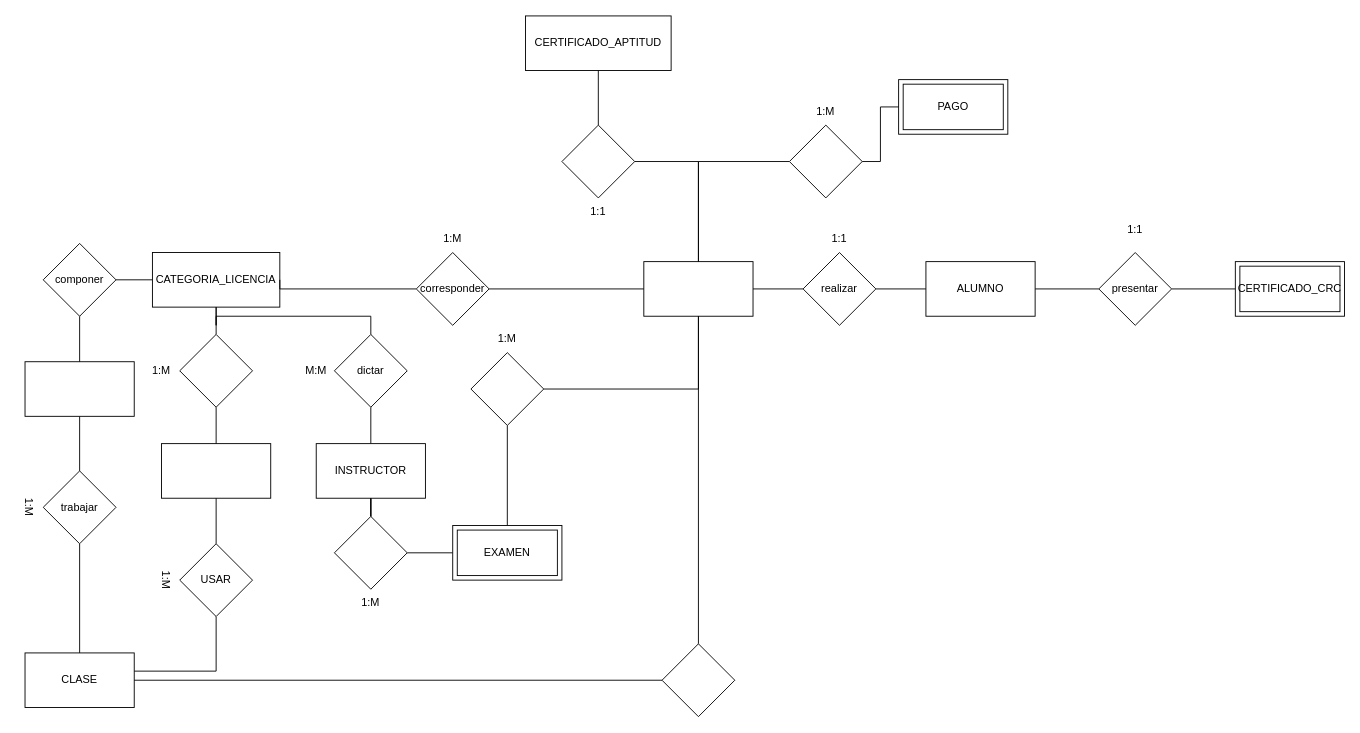
This 1360x733 diagram has some shape labels left out. Each missing label, with the centre of its shape:
calificar: the point at 370,552
enseñar: the point at 216,370
evaluar: the point at 507,388
MATRICULA: the point at 698,288
MODULO: the point at 79,388
obtener: the point at 598,161
programar: the point at 698,680
recibir: the point at 825,161
VEHICULO: the point at 216,470
